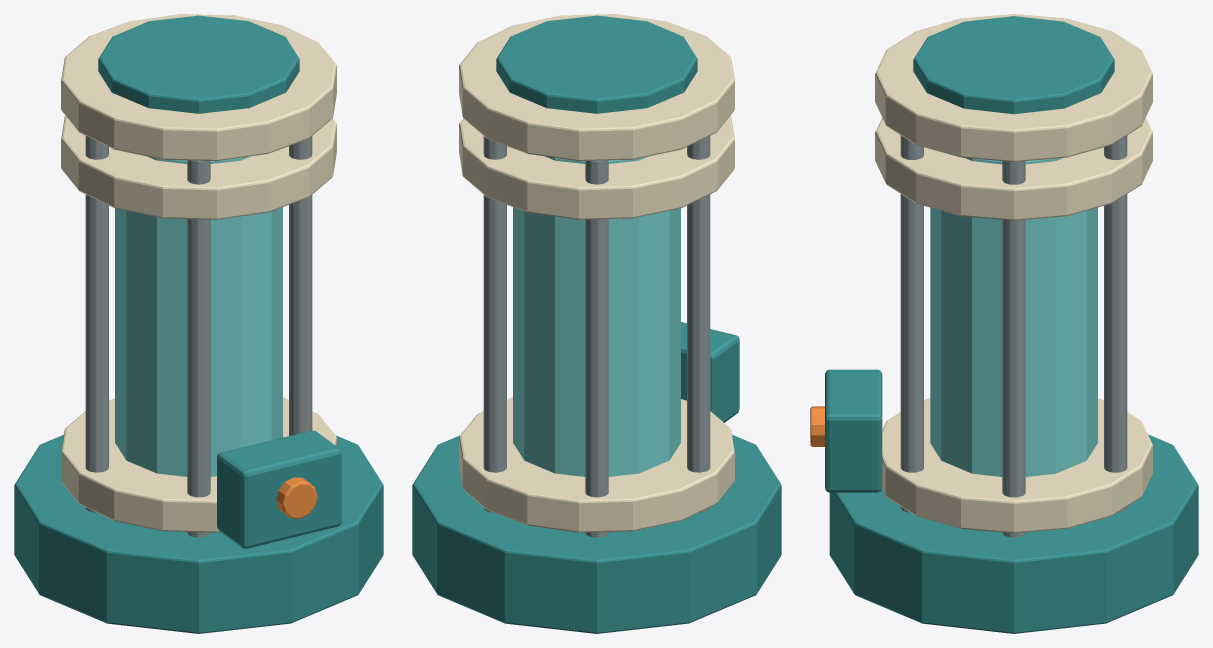
Rendered from S083_fake_reactor.glb.
3 views of the same model, side by side, from view 1: azimuth 30°, elevation 25°; view 2: azimuth 150°, elevation 25°; view 3: azimuth 270°, elevation 25° (orthographic).
Visible parts, largest first — view 1: reactor_base, fake_core, reactor_ring.002, reactor_cap, reactor_ring.001, control_box, reactor_ring, reactor_frame.004, reactor_frame.003, reactor_frame.005, reactor_switch; view 2: reactor_base, fake_core, reactor_ring.002, reactor_ring, reactor_cap, reactor_ring.001, reactor_frame.002, reactor_frame.003, reactor_frame.001, control_box; view 3: reactor_base, fake_core, reactor_ring.002, reactor_ring, reactor_cap, reactor_ring.001, reactor_frame, control_box, reactor_frame.005, reactor_frame.001, reactor_switch.
Part boxes in pixels (x1,y1,x2,y2): reactor_base: (14,434,383,633); fake_core: (115,156,282,476); reactor_ring.002: (61,14,336,161); reactor_cap: (98,15,299,113); reactor_ring.001: (61,115,336,219); control_box: (217,430,341,548); reactor_ring: (61,397,336,532); reactor_frame.004: (187,160,210,537); reactor_frame.003: (85,136,108,512); reactor_frame.005: (289,136,312,435); reactor_switch: (276,477,317,518); reactor_base: (412,434,781,633); fake_core: (513,156,680,476); reactor_ring.002: (459,14,734,161); reactor_ring: (459,397,734,532); reactor_cap: (496,15,697,113); reactor_ring.001: (459,115,734,219); reactor_frame.002: (585,160,608,537); reactor_frame.003: (687,136,710,512); reactor_frame.001: (483,136,506,512); control_box: (681,322,739,422); reactor_base: (829,434,1198,633); fake_core: (930,158,1097,476); reactor_ring.002: (875,14,1152,161); reactor_ring: (882,398,1152,533); reactor_cap: (913,16,1114,114); reactor_ring.001: (875,117,1152,220); reactor_frame: (1002,161,1025,537); control_box: (825,369,882,492); reactor_frame.005: (900,135,923,512); reactor_frame.001: (1104,135,1127,512); reactor_switch: (810,406,824,446).
Bounding box in the file's own units: 1.54 × 2.3 × 1.62.
